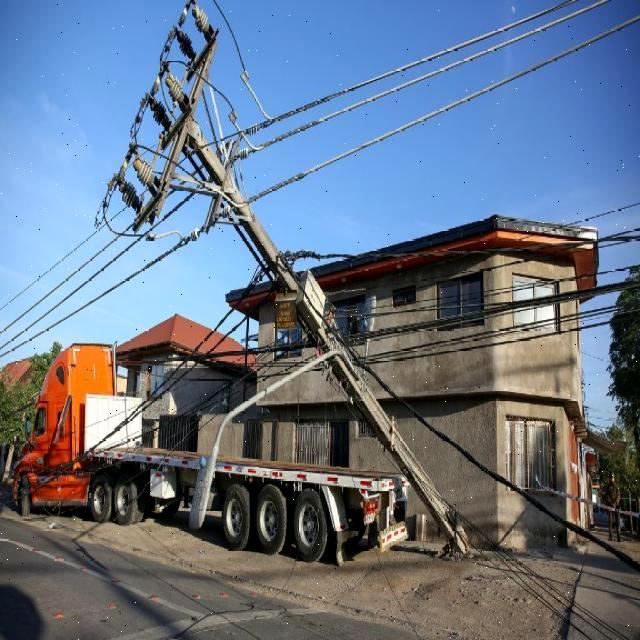Broken Pole: (110, 15, 480, 563)
